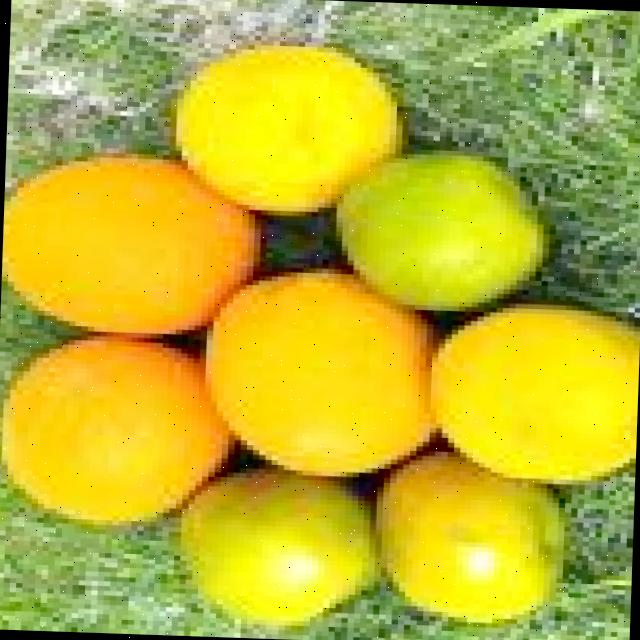Good_Orange-15-21 days: (1, 47, 640, 630)
